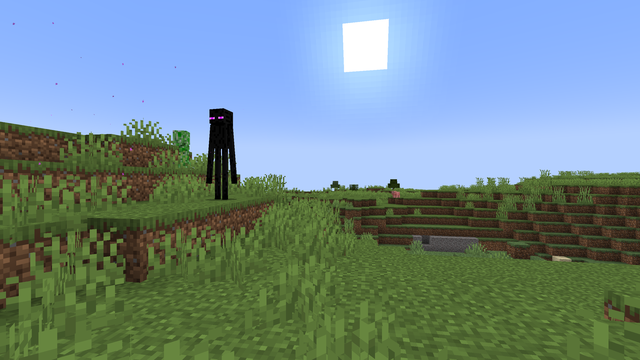cochons: (392, 191, 399, 197)
creepers: (169, 128, 192, 161)
endermens: (207, 105, 234, 200)
